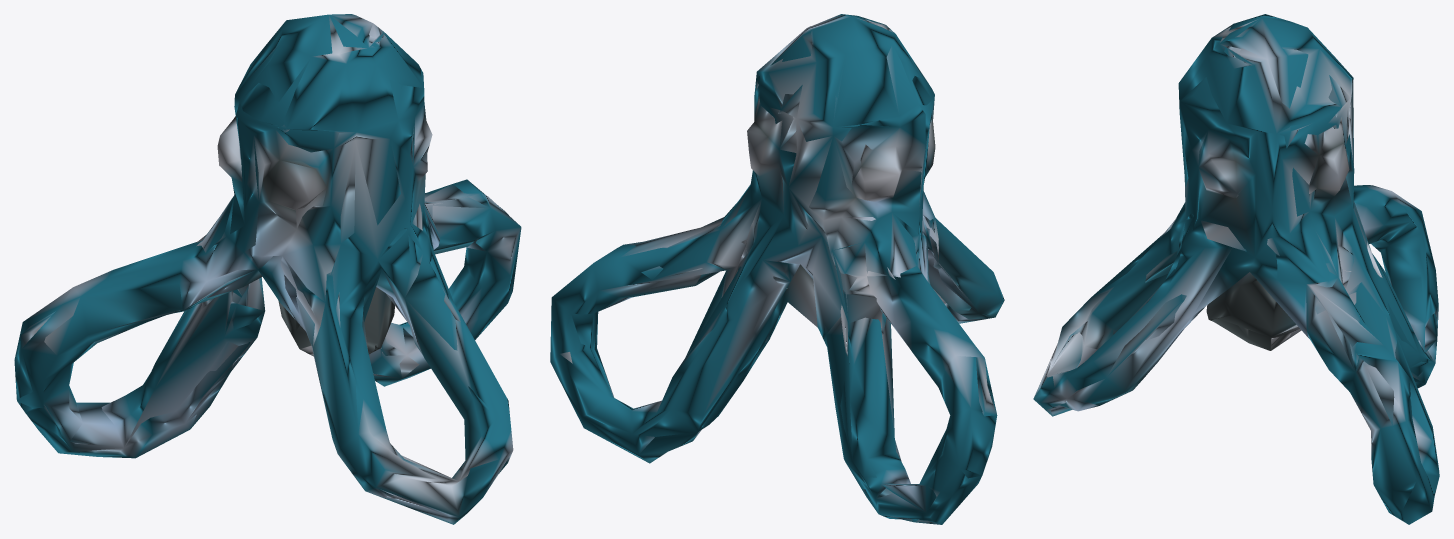
Rendered from gen3d-kraken-lod0.glb.
3 views of the same model, side by side, from view 1: azimuth 30°, elevation 25°; view 2: azimuth 150°, elevation 25°; view 3: azimuth 270°, elevation 25° (orthographic). The views are drawn at different scales.
Parts seen in each view (by area): view 1: part_0; view 2: part_0; view 3: part_0.
Boxes of the visible parts, box(x1,y1,x2,y2) form: part_0: box(14, 14, 521, 524); part_0: box(550, 14, 1004, 524); part_0: box(1033, 14, 1439, 524).
Bounding box in the file's own units: 1.09 × 0.9855 × 0.8442.
